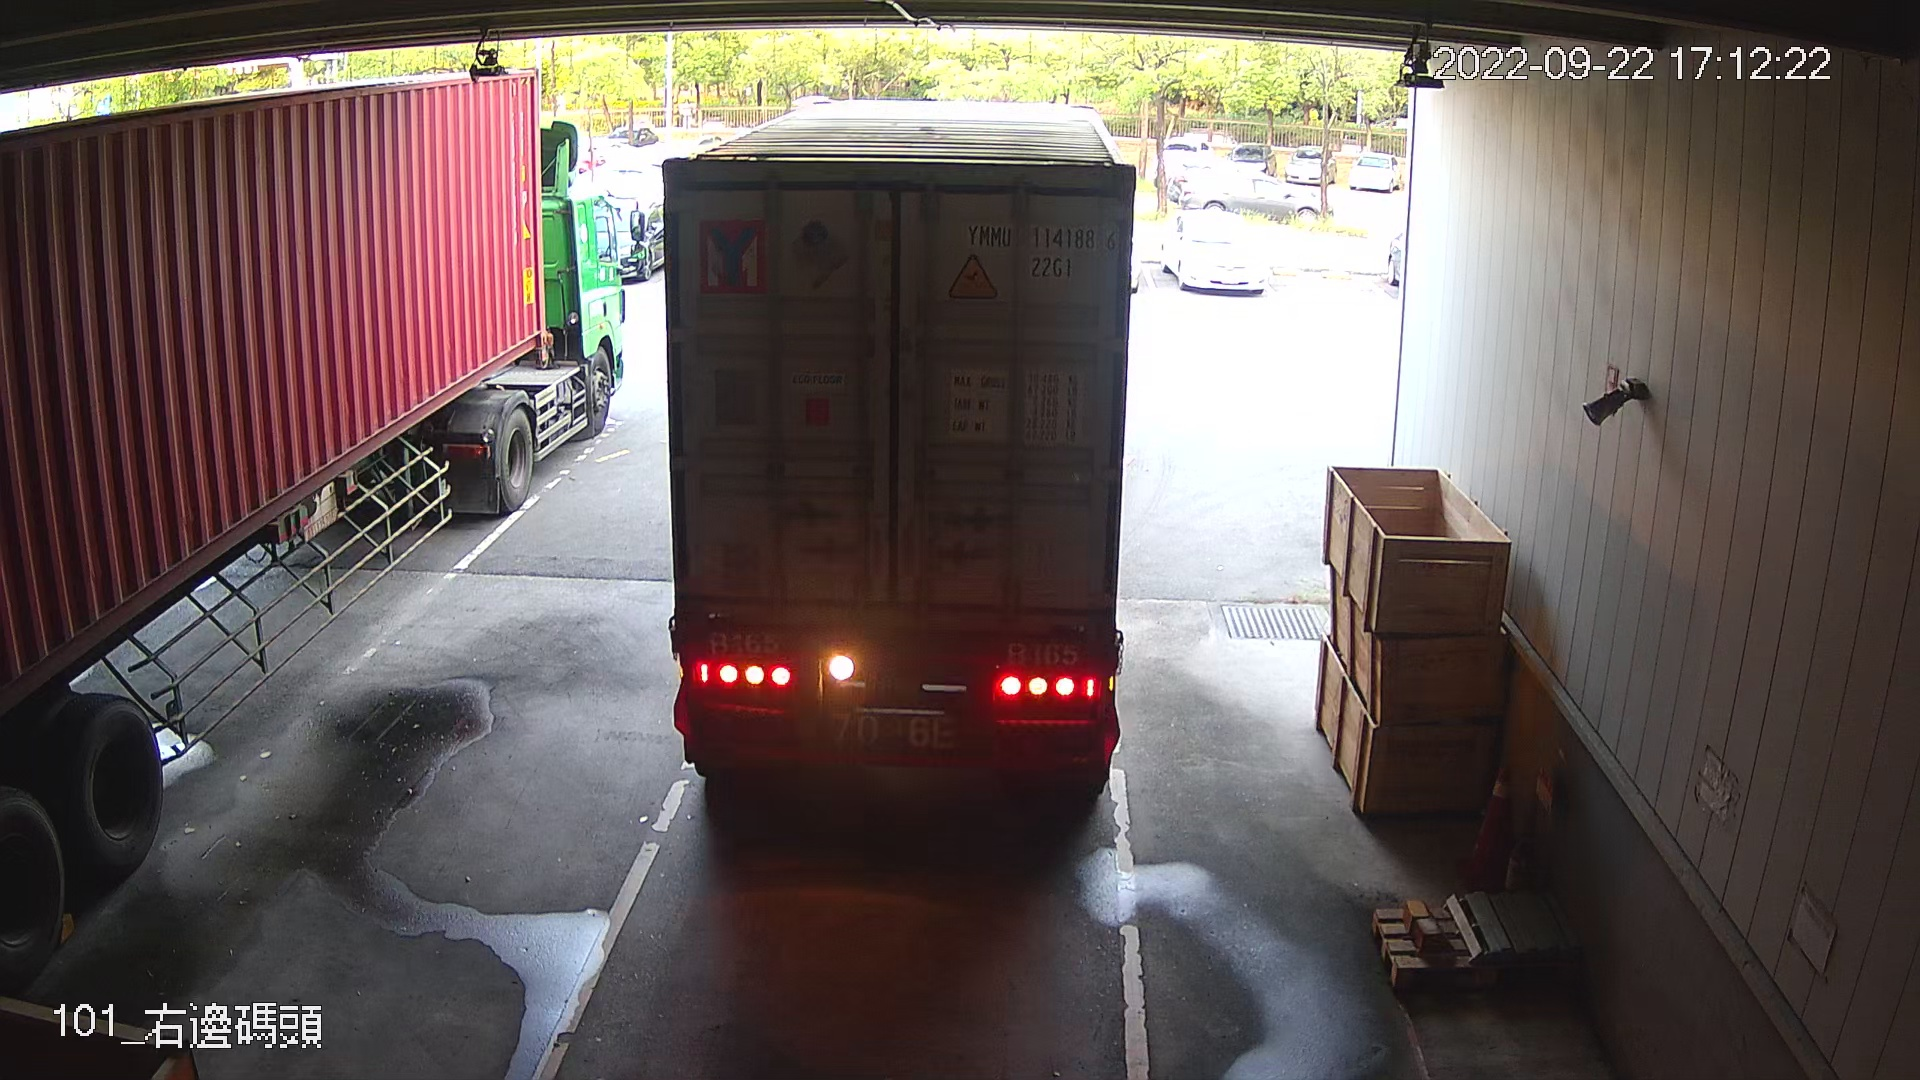container: (956, 216, 1125, 289)
